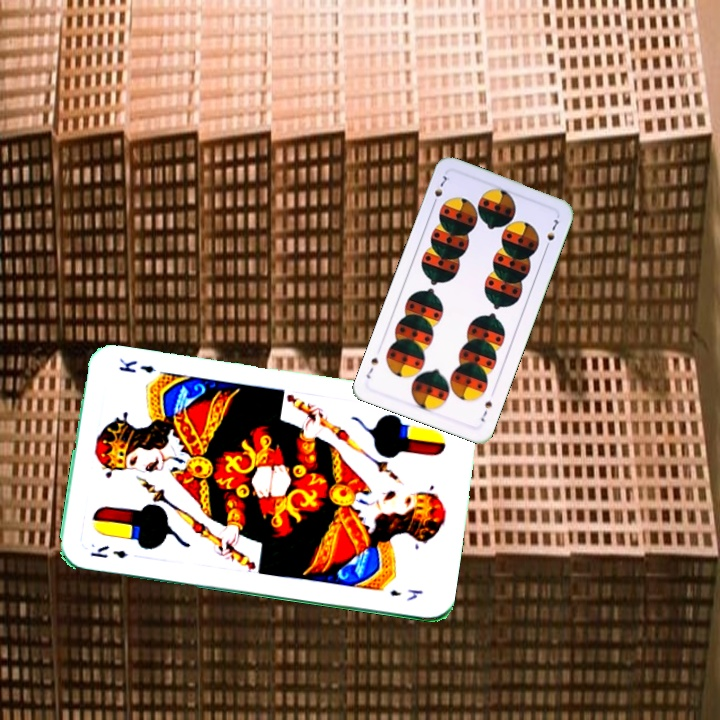EK: (86, 541, 130, 561)
S7: (428, 171, 452, 209), (476, 397, 495, 424)
